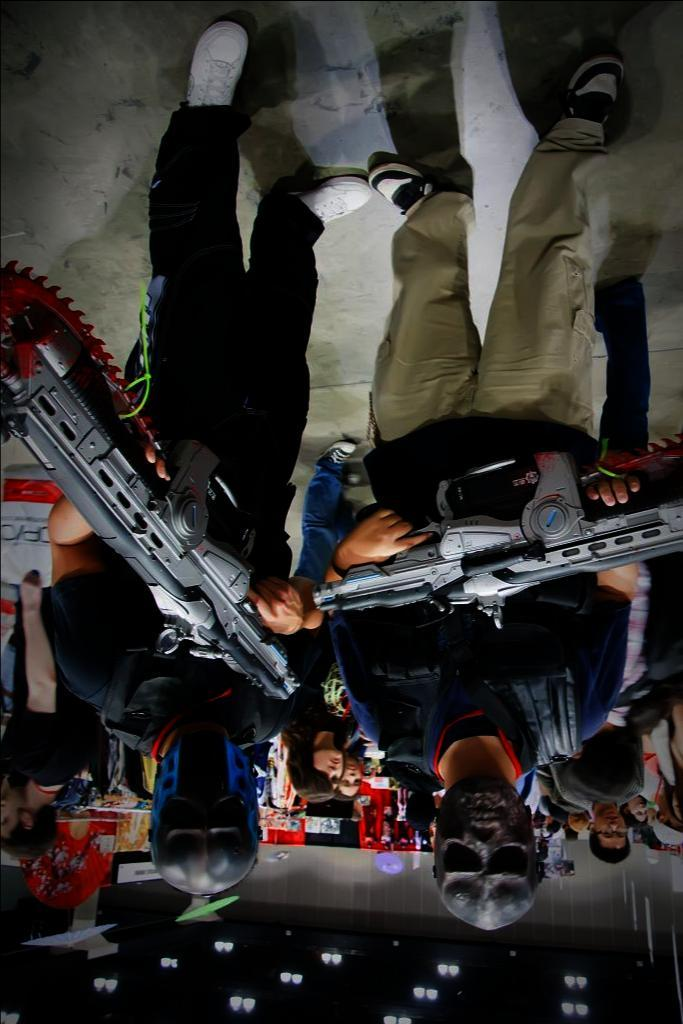gun: (0, 269, 299, 701), (310, 444, 678, 614)
